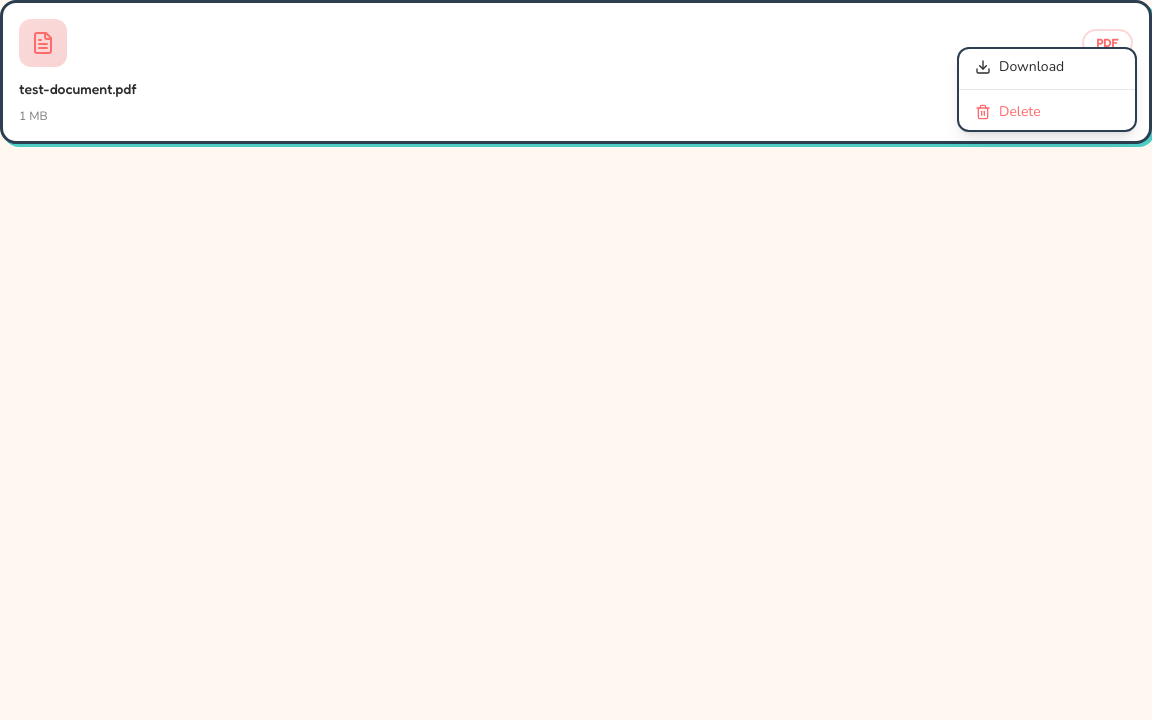
FileItem › closes menu when clicking outside
The width and height of the screenshot is (1152, 720).
Earlier steps of the test are not shown.
Expected: the button "Delete" is shown, [959,94,1135,130]
Click the element with class "inset-0" at coordinates (576, 360), box [0,0,1151,719]
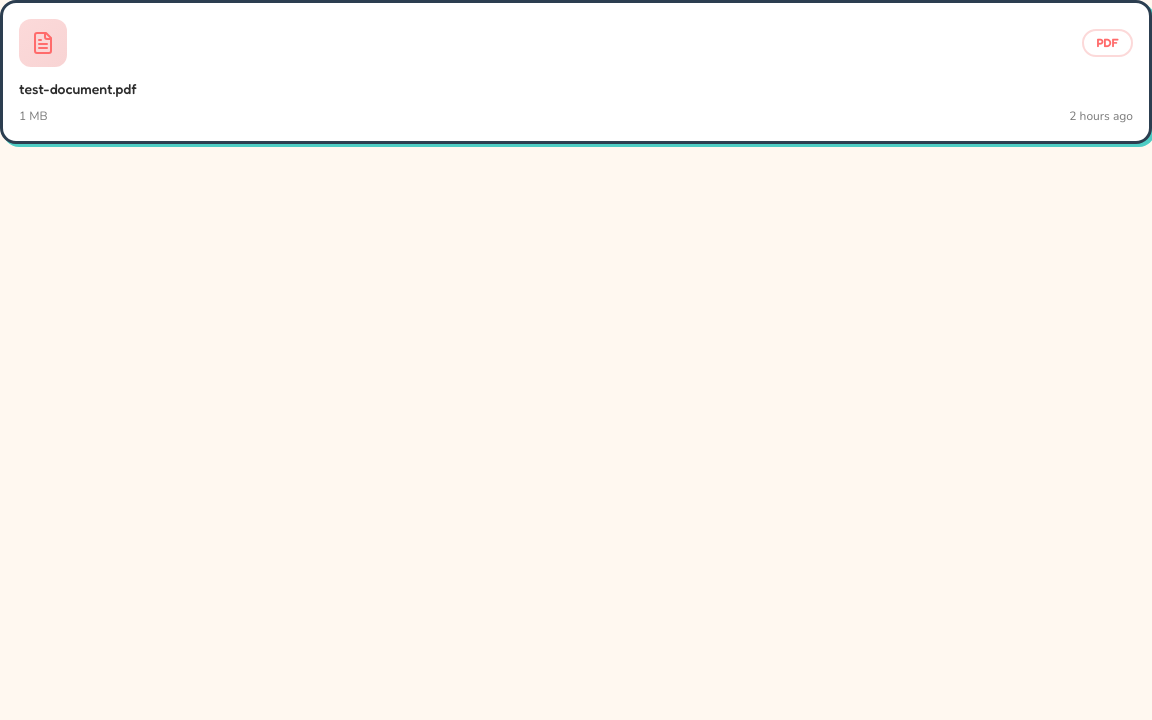
Result: the button "Delete" is gone
